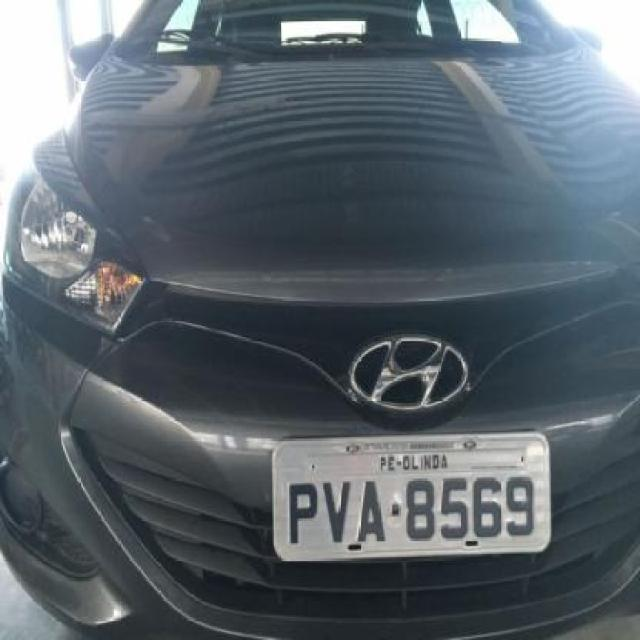old_plate: (264, 427, 559, 566)
